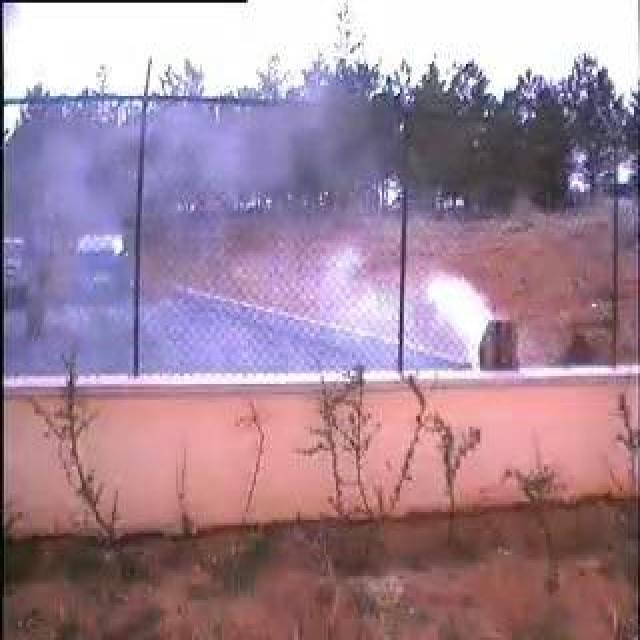Smoke: (67, 119, 491, 377)
